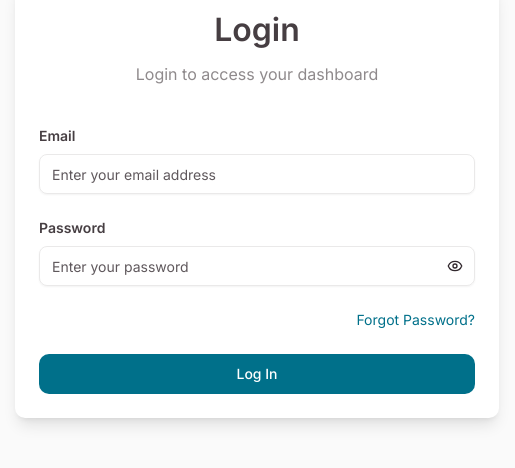
LoginForm › shows validation error for invalid email format
Type "invalid-email" into the field labelled "Email". click: (257, 174)
box: [39, 154, 475, 194]
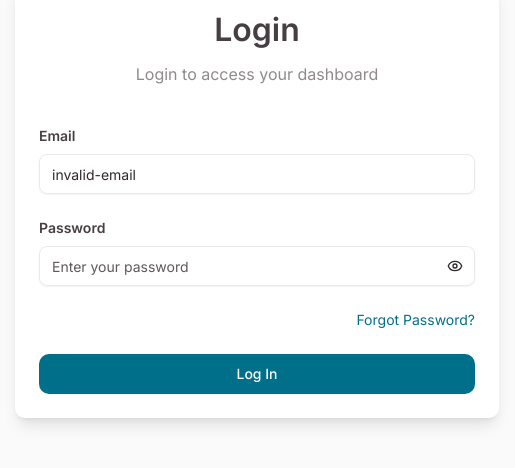
Type "password123" into the password field labelled "Password". click: (257, 266)
box: [39, 246, 475, 286]
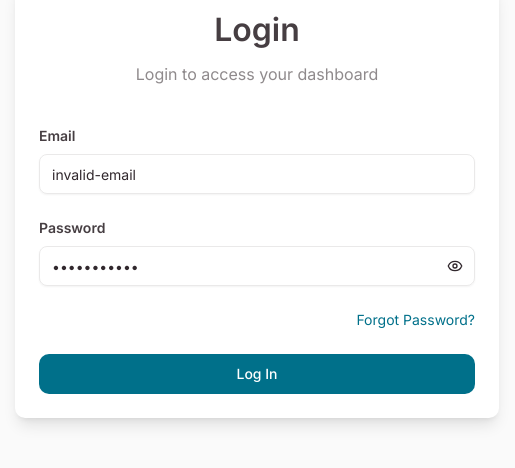
Click the button "Log In". click: click(257, 374)
box: [39, 354, 475, 394]
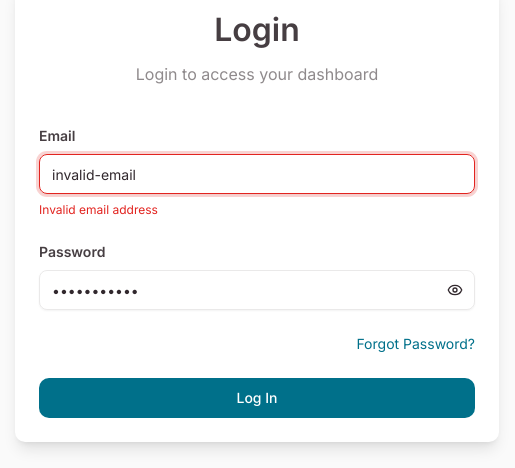
Expected: the text "Invalid email address" is shown, [39, 202, 158, 217]
